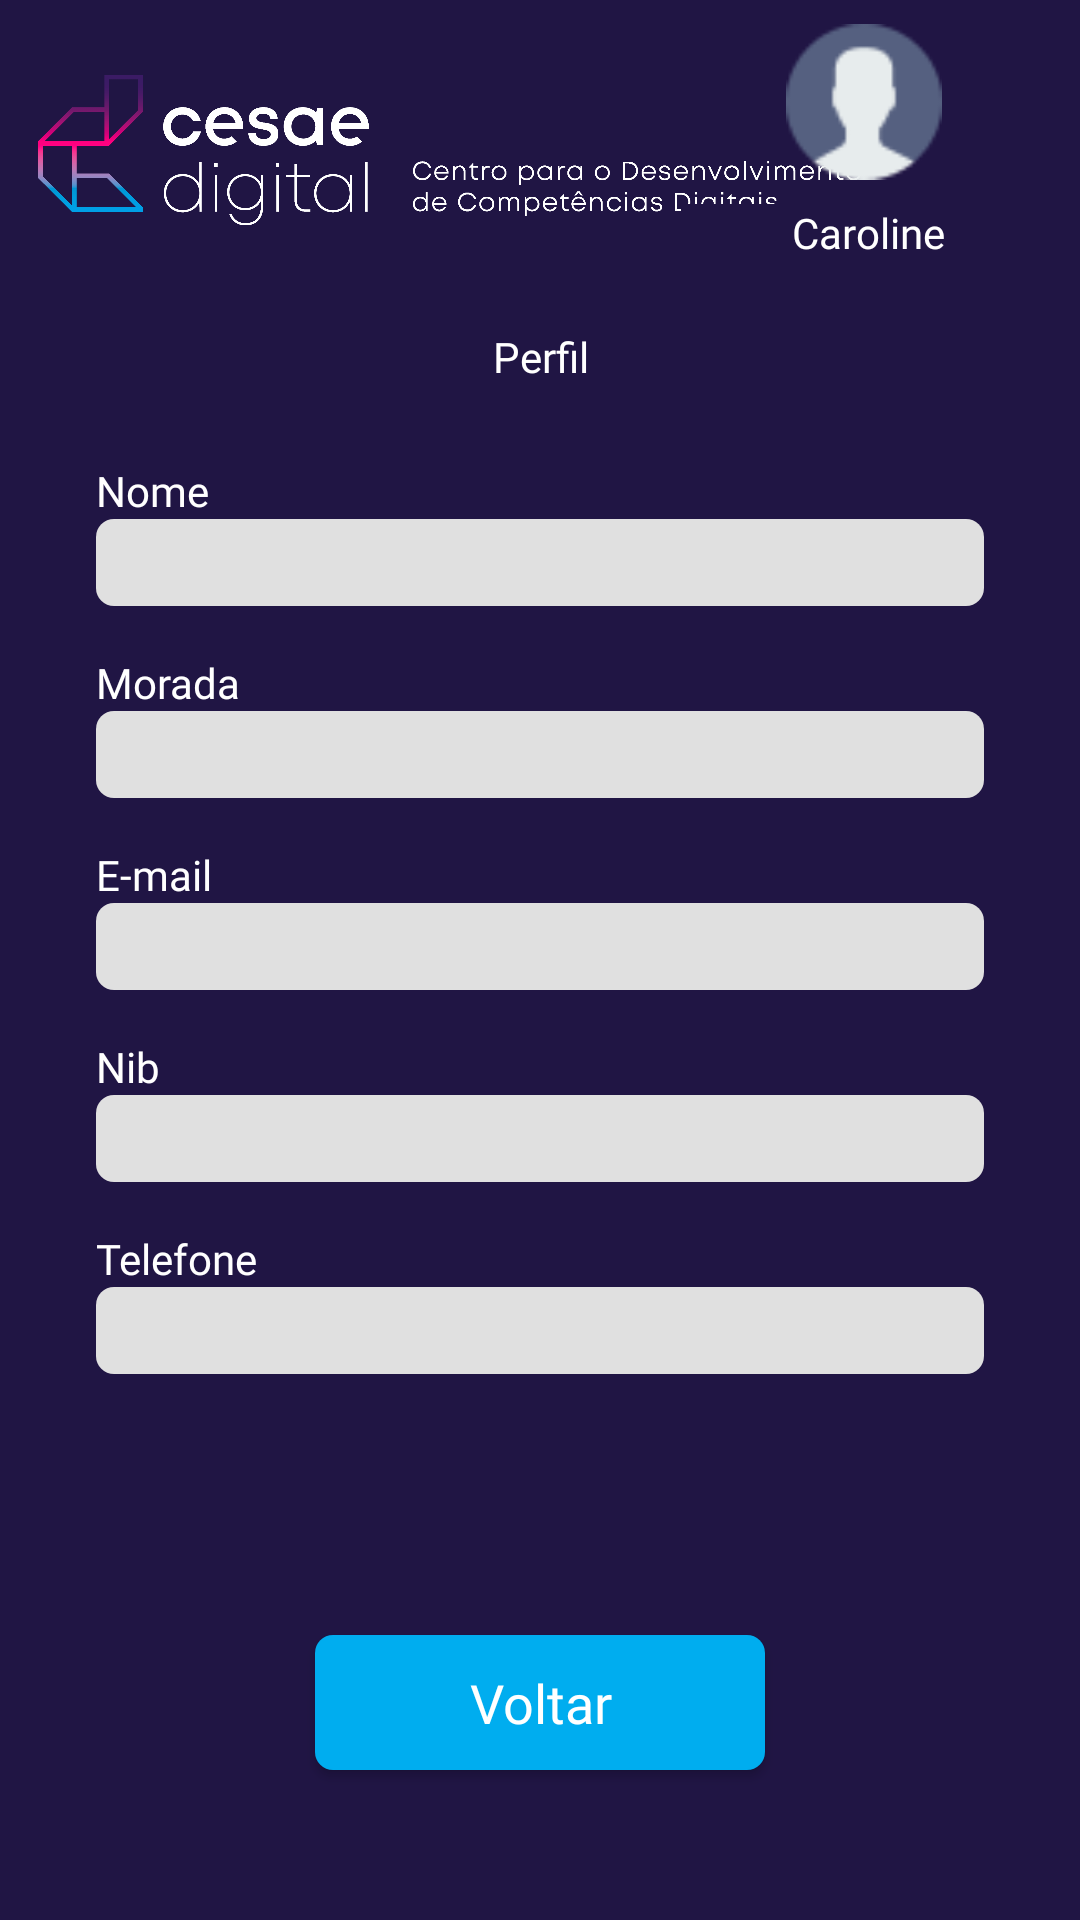

Icon click points for this 1080px×1920px phone screenshot, format (x,y):
user: (833,102)
